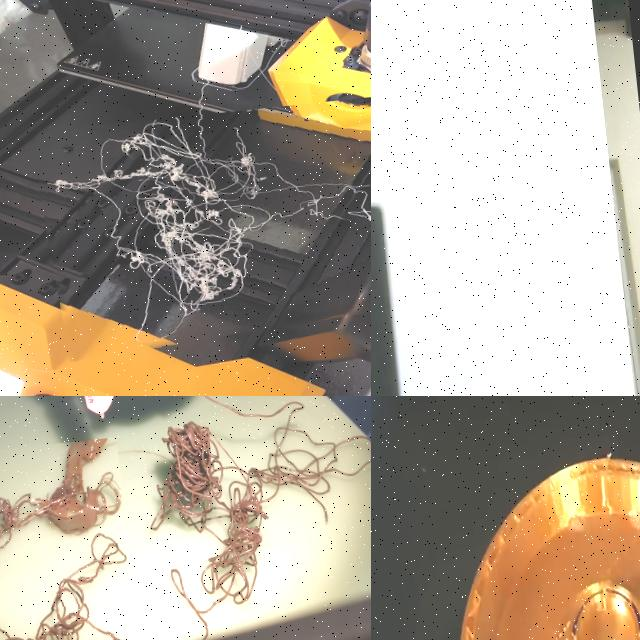spaghetti: (28, 90, 371, 363), (138, 396, 371, 640), (0, 437, 143, 640)
